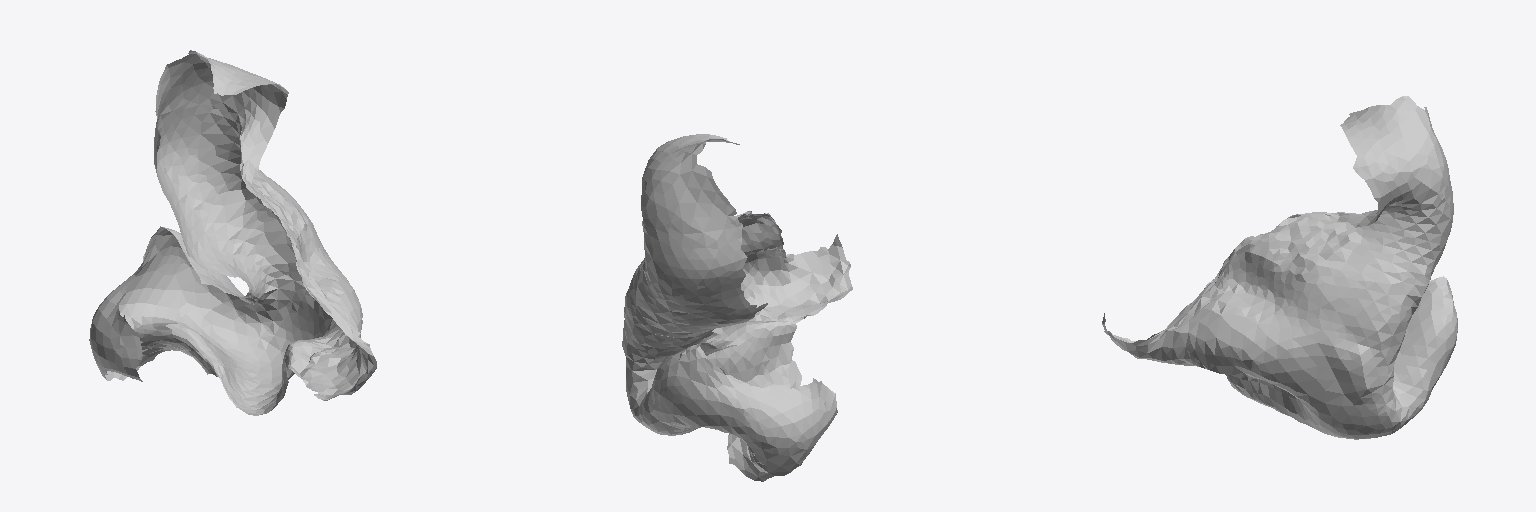
The model's file is R_paracentral.obj.
3 views of the same model, side by side, from view 1: azimuth 30°, elevation 25°; view 2: azimuth 150°, elevation 25°; view 3: azimuth 270°, elevation 25° (orthographic).
Visible parts, largest first — view 1: R_paracentral_L_paracentral; view 2: R_paracentral_L_paracentral; view 3: R_paracentral_L_paracentral.
Part boxes in pixels (x1,y1,x2,y2): R_paracentral_L_paracentral: (89,50,376,415); R_paracentral_L_paracentral: (622,134,852,481); R_paracentral_L_paracentral: (1102,96,1457,439).
Size of the model in its own units: 80.07 by 119 by 120.